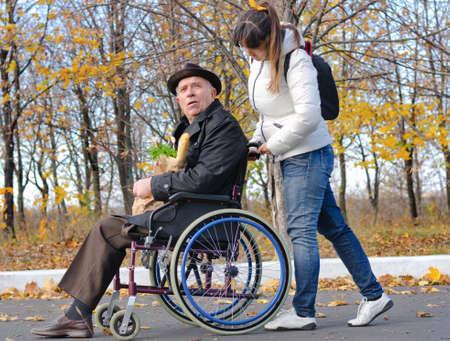push_wheelchair: (225, 2, 395, 332)
wheelchair: (32, 63, 292, 341)
